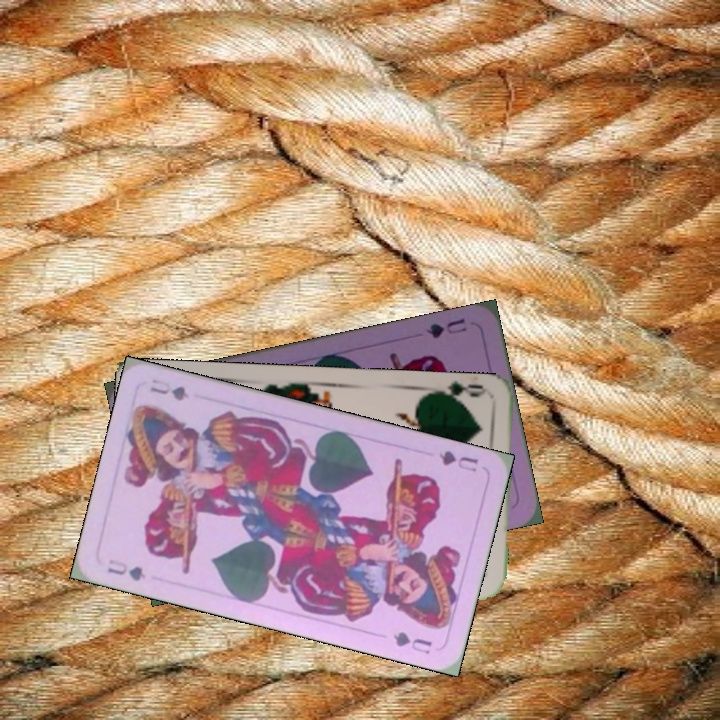GO: (430, 379, 489, 406)
GU: (103, 554, 149, 584), (435, 446, 481, 475), (422, 314, 469, 341)
